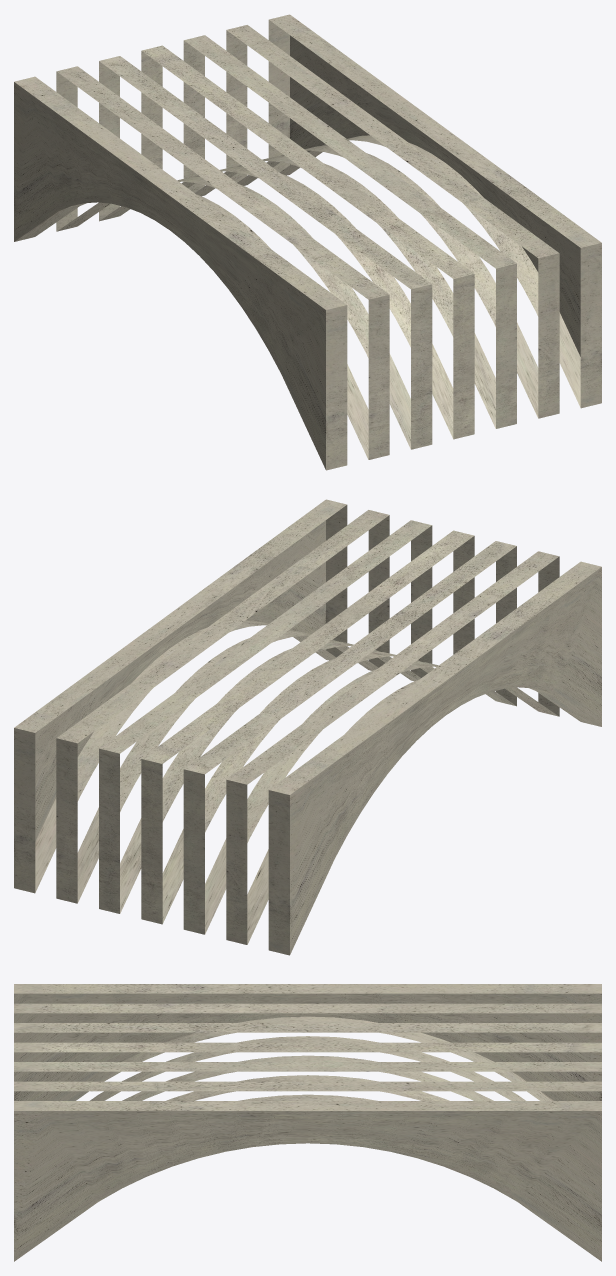
Rendered from BridgeTest2.FBX.
3 views of the same model, one above another, from view 1: azimuth 30°, elevation 25°; view 2: azimuth 150°, elevation 25°; view 3: azimuth 270°, elevation 25° (orthographic). The views are drawn at different scales.
Visible parts, largest first — view 1: Box001; view 2: Box001; view 3: Box001.
Boxes of the visible parts, x1=… form: Box001: x1=14, y1=14, x2=601, y2=470; Box001: x1=14, y1=499, x2=601, y2=955; Box001: x1=14, y1=984, x2=601, y2=1261.
Size of the model in its own units: 18 by 10 by 35.26.
